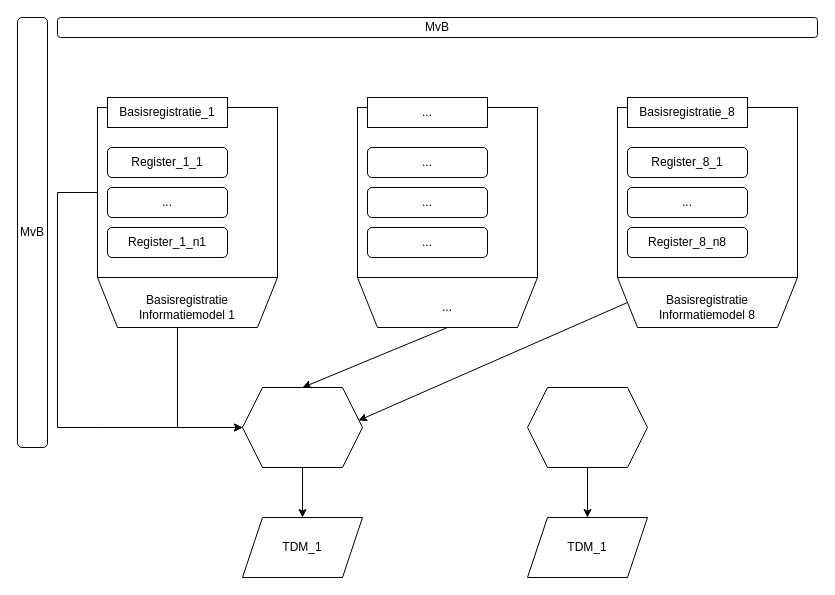
Some shapes in this 835 by 595 pixel diagram are drawn without their labels. The box of each missing label's shape, as (x1, y1, x2, y2) in pixels:
LIM_1: (242, 386, 362, 468)
LIM_n: (526, 386, 648, 468)
